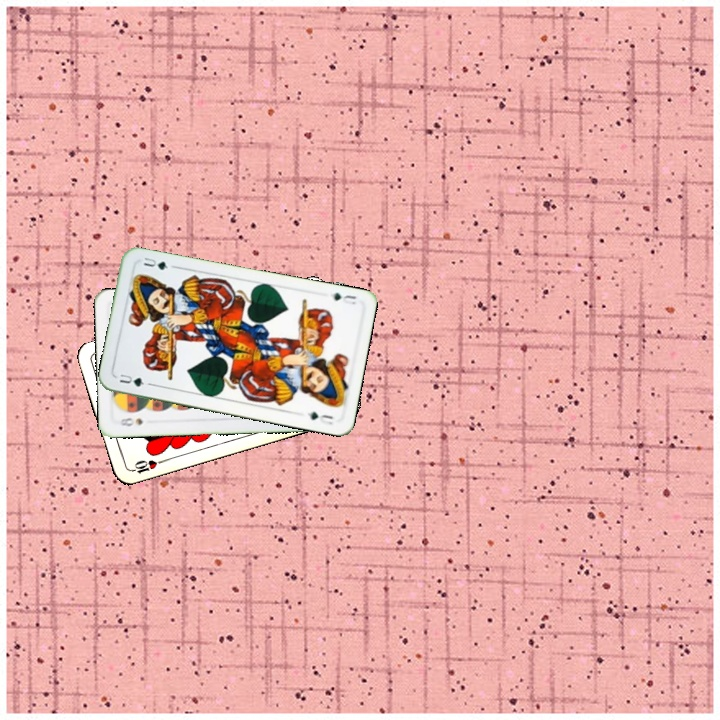GU: (115, 370, 147, 389), (326, 289, 359, 307)
H10: (126, 456, 166, 476)
S8: (114, 413, 146, 429)
